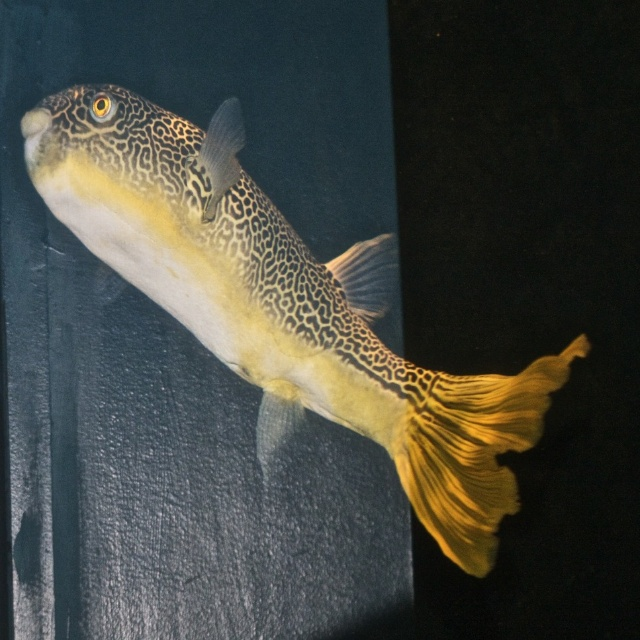Fish: (27, 74, 587, 562)
